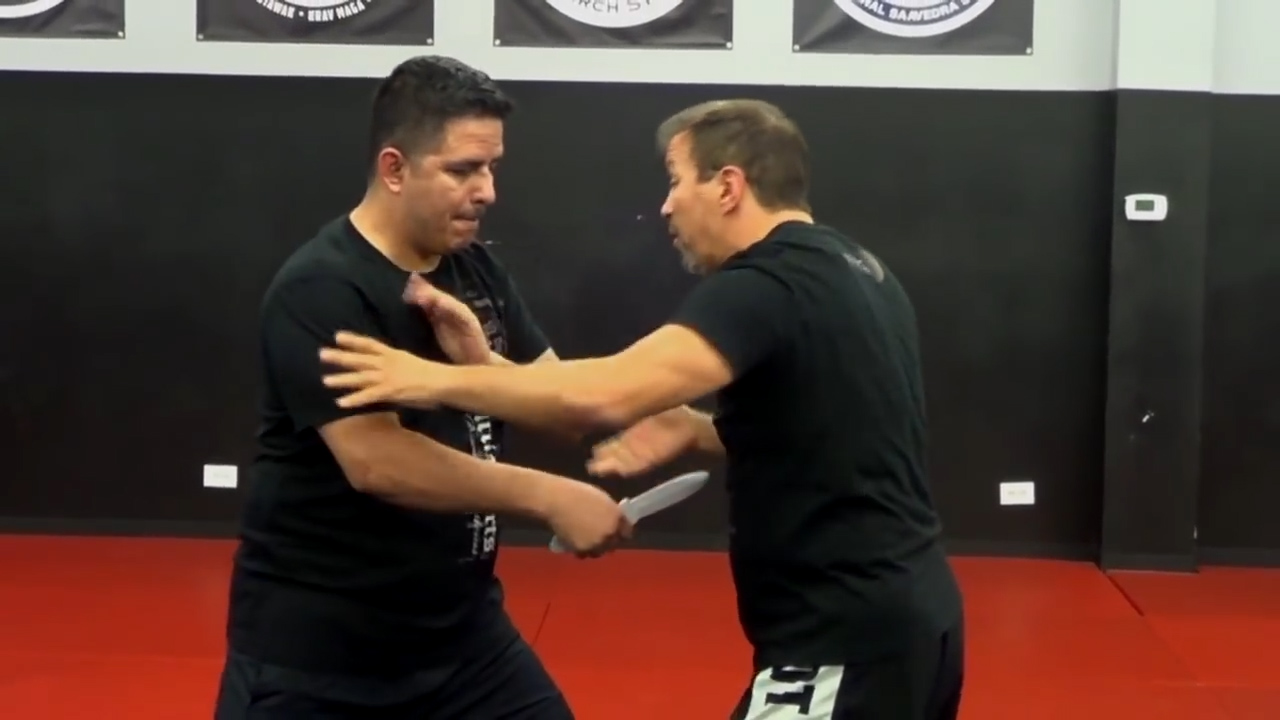knife: (543, 461, 715, 561)
